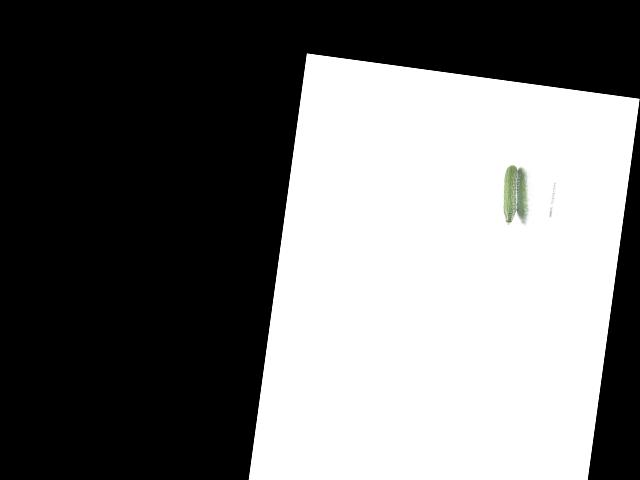cucumber: (498, 164, 522, 225)
